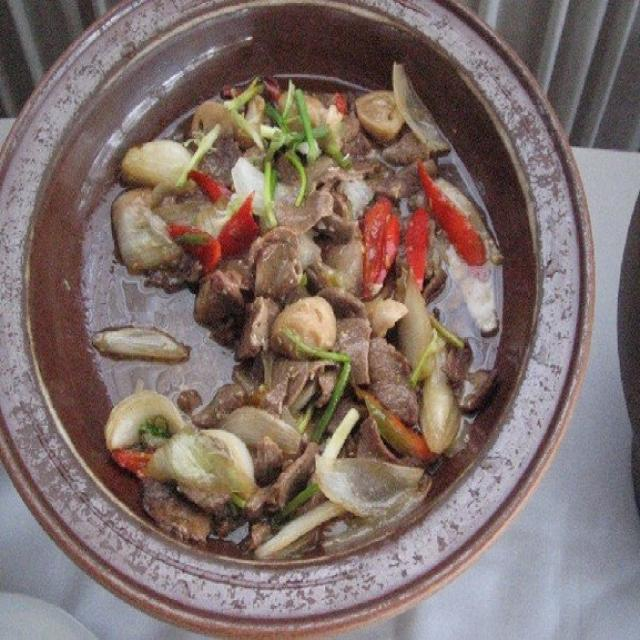牛肉菜式: (71, 34, 528, 554)
